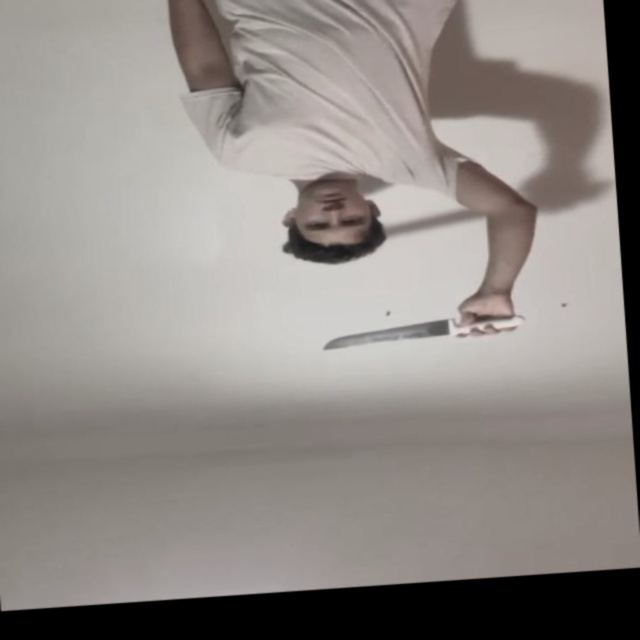Sharp-Object: (315, 319, 448, 357)
